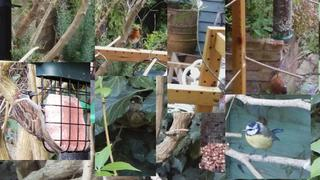blue tit: (242, 121, 284, 161)
robin: (125, 27, 141, 50)
sparrow: (12, 89, 64, 156)
